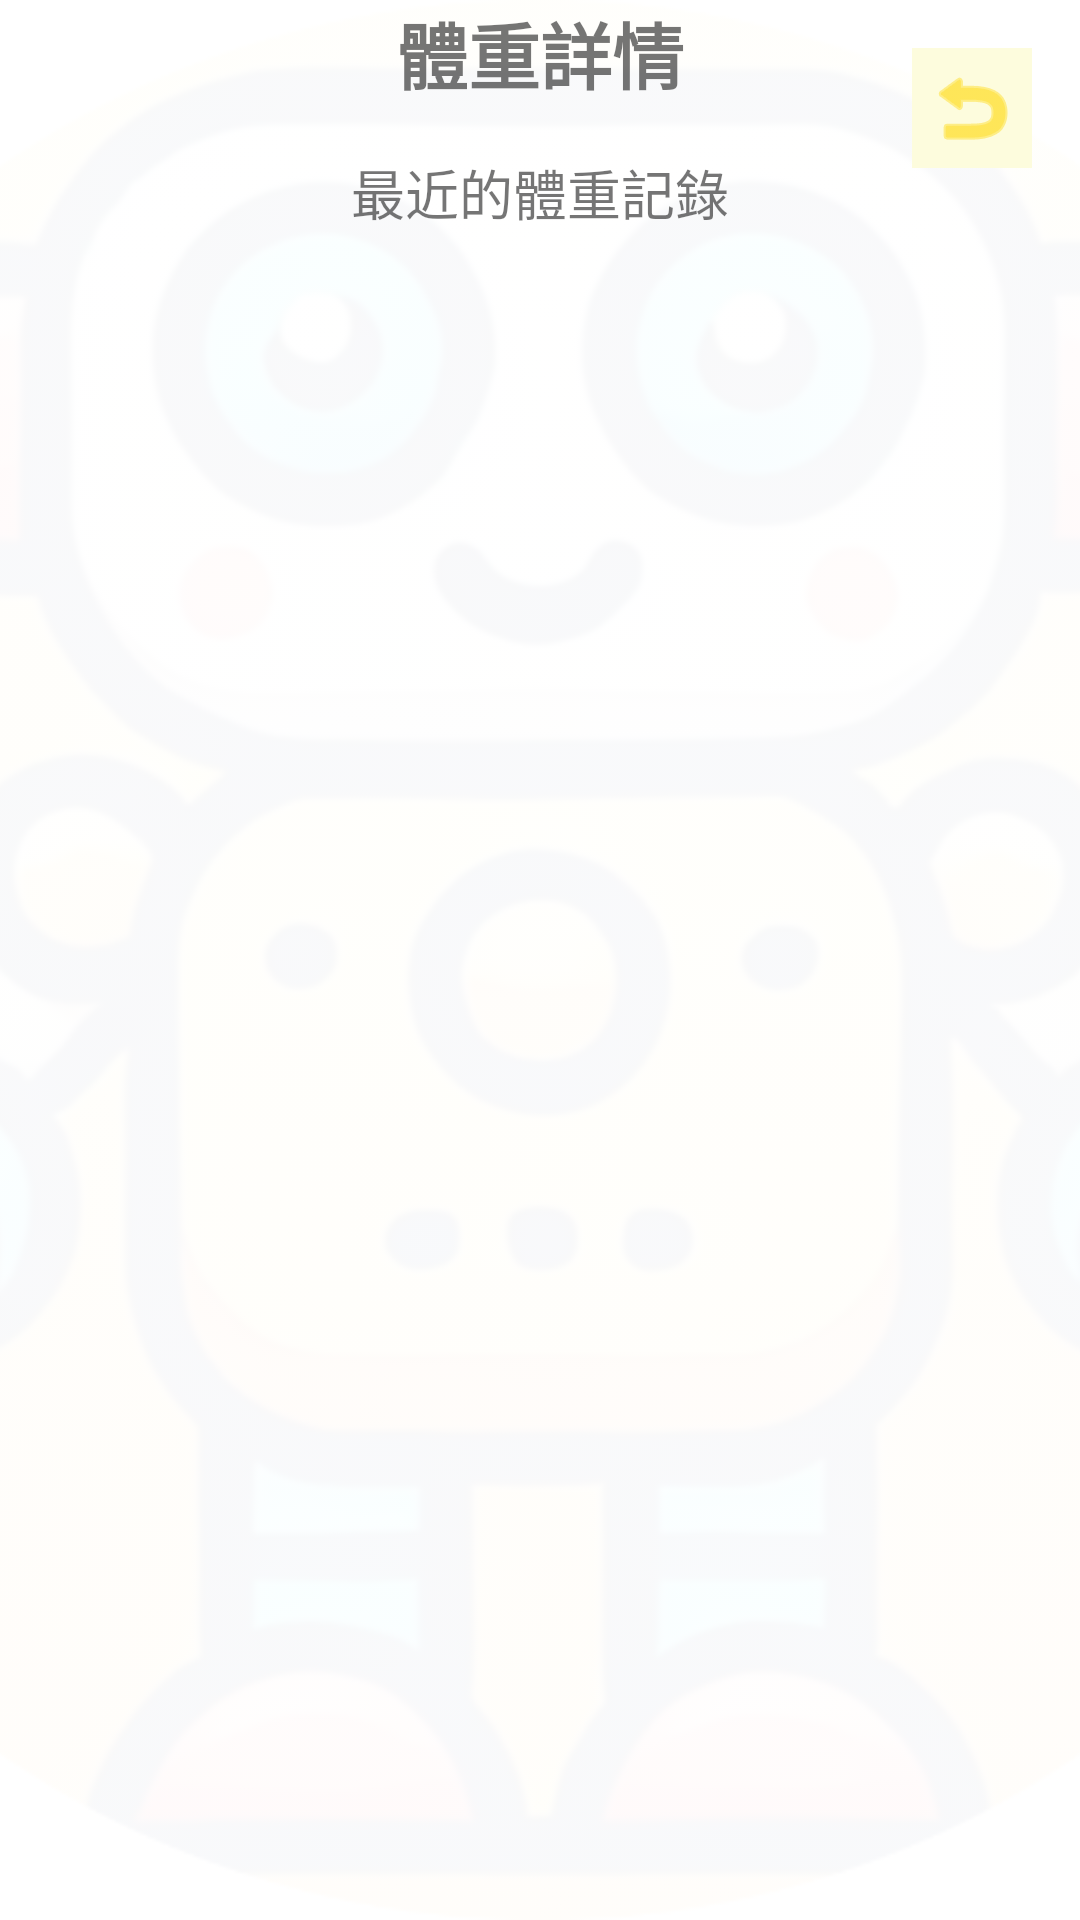

Screen size 1080 × 1920. Icon name, then its center in pixels as [x,y]:
revert: [972,108]
